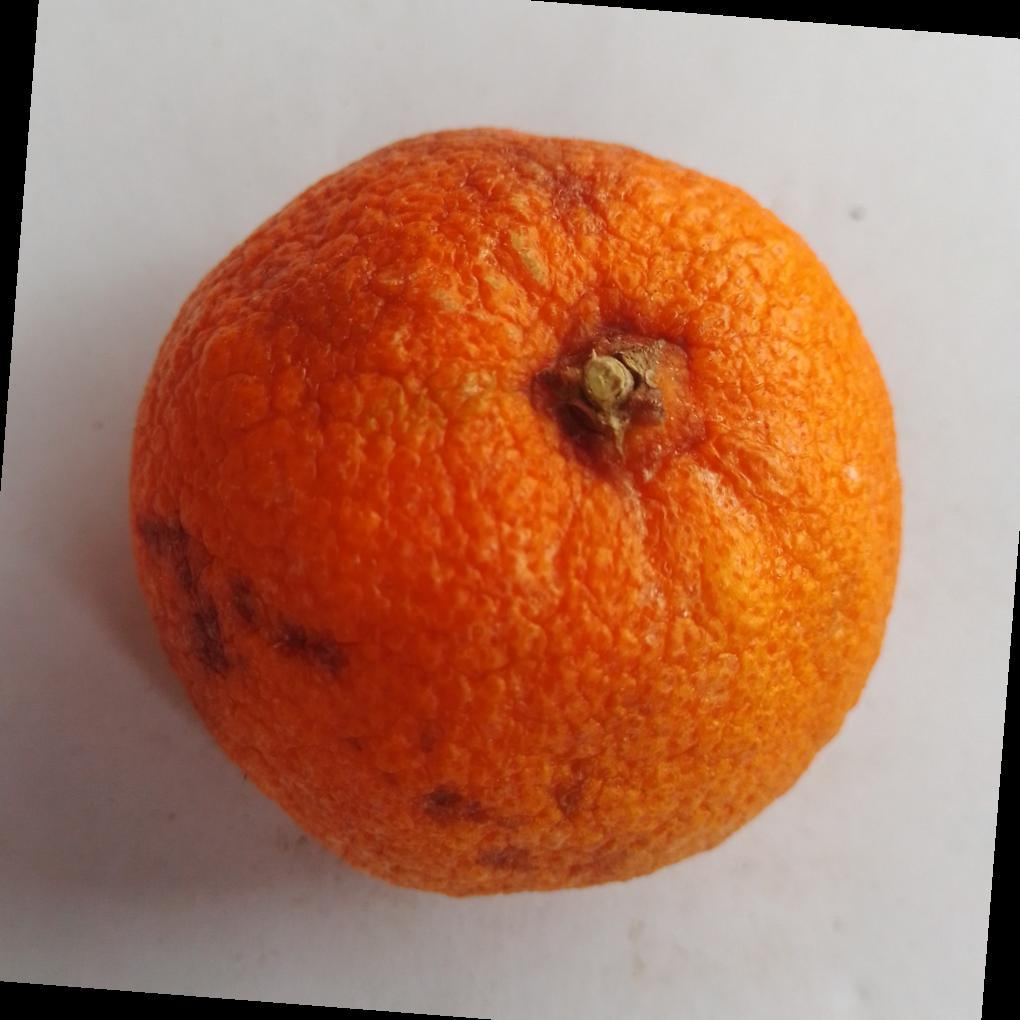FreshOrange: (125, 127, 905, 904)
